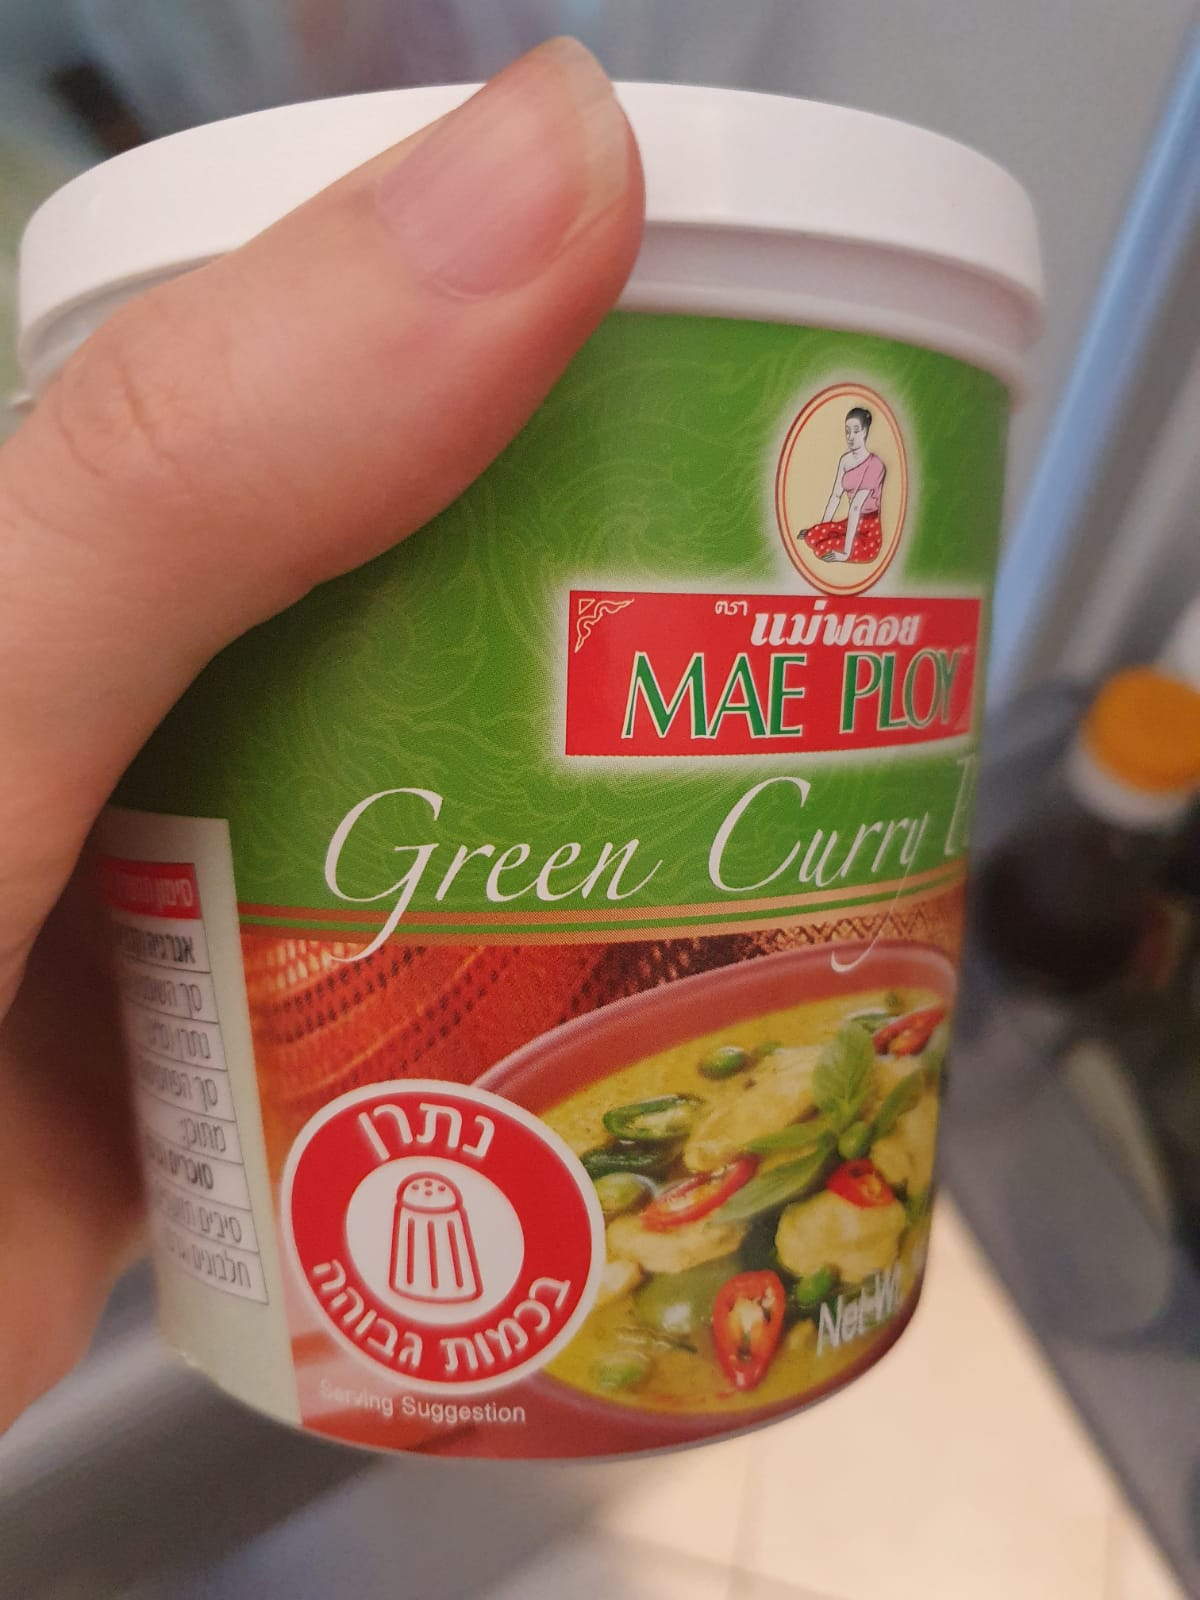salt: (279, 1078, 609, 1398)
